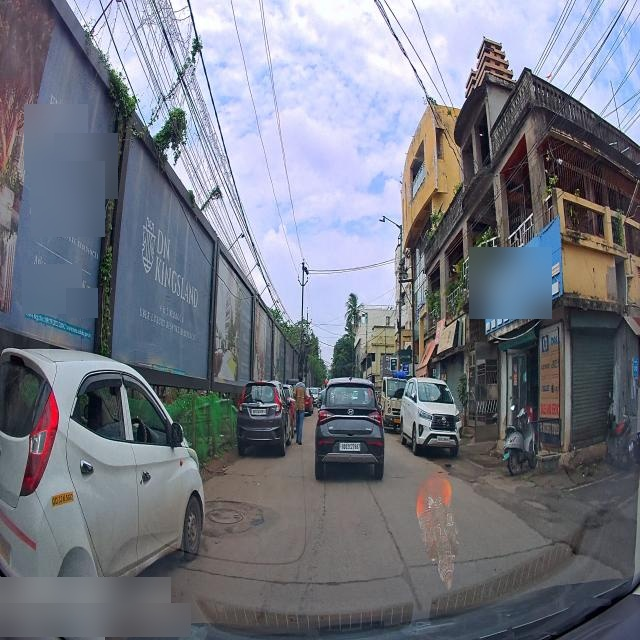pothole: (442, 462, 460, 476), (466, 478, 486, 489)
